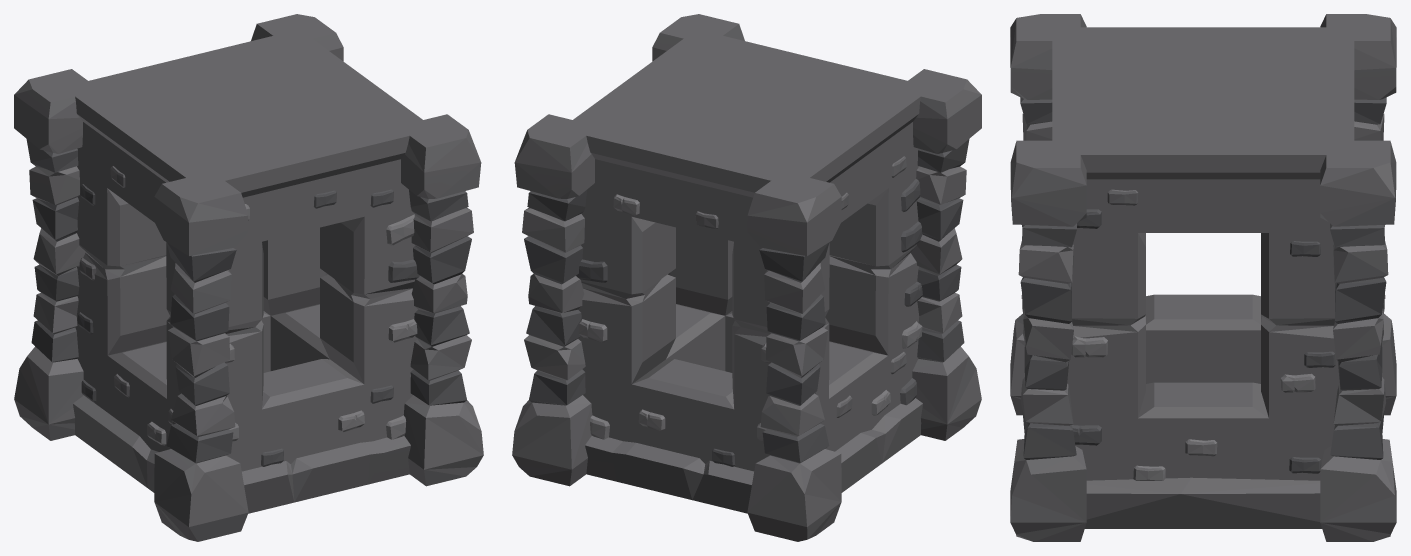
Rendered from SM_Bld_Church_Tower_03.gltf.
3 renders of one model, left to right at view 1: azimuth 30°, elevation 25°; view 2: azimuth 150°, elevation 25°; view 3: azimuth 270°, elevation 25°, orthographic. The views are drawn at different scales.
Parts seen in each view (by area): view 1: SM_Bld_Church_Tower_03; view 2: SM_Bld_Church_Tower_03; view 3: SM_Bld_Church_Tower_03.
Part boxes in pixels (box(x1,y1,x2,y2)): SM_Bld_Church_Tower_03: box(14, 14, 483, 541); SM_Bld_Church_Tower_03: box(512, 14, 981, 541); SM_Bld_Church_Tower_03: box(1010, 14, 1396, 541).
Bounding box in the file's own units: 2.97 × 3.26 × 3.05.
1 material, 1 textured.
